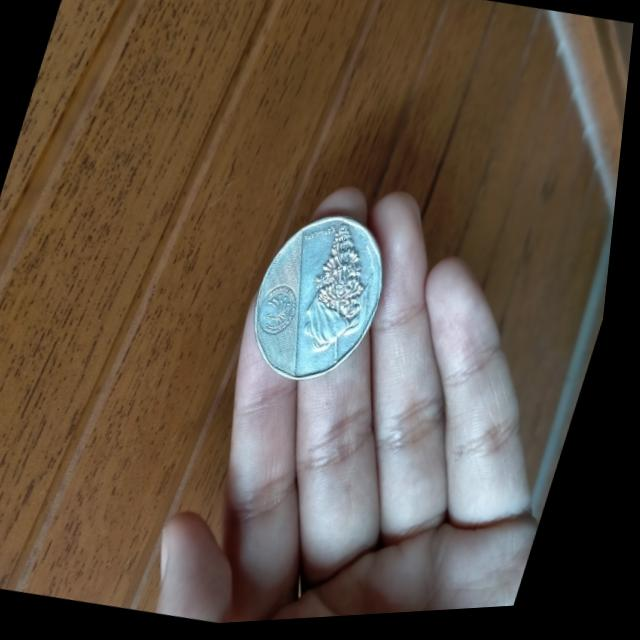10_New_Back: (292, 207, 403, 371)
